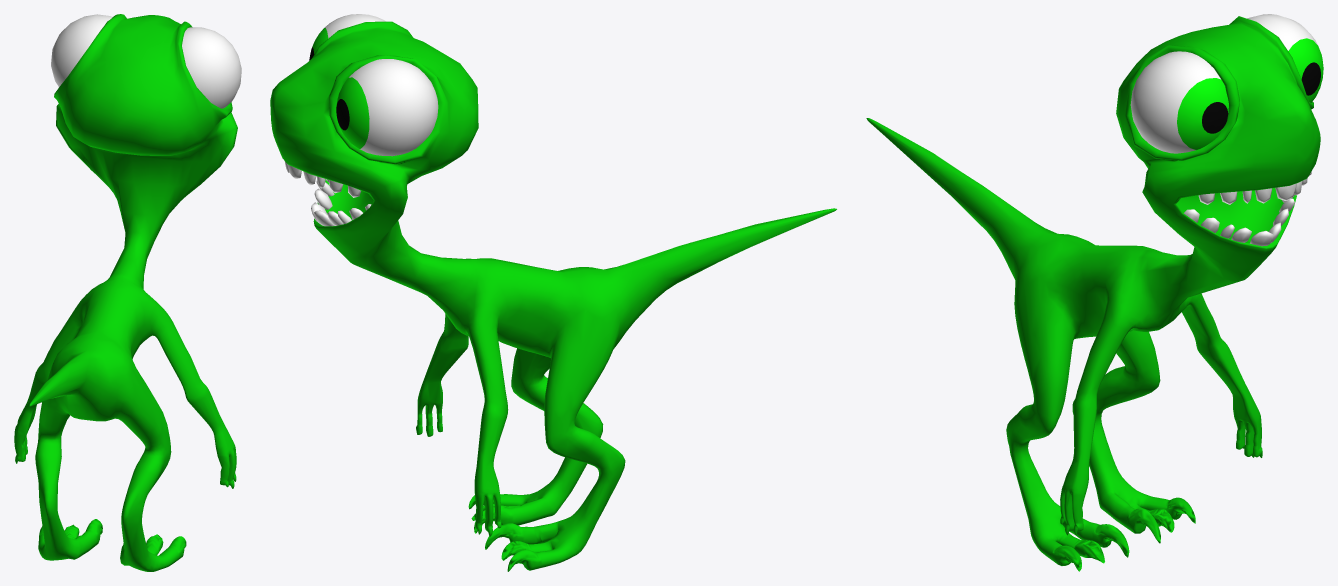
The model's file is dino.fbx.
3 views of the same model, side by side, from view 1: azimuth 30°, elevation 25°; view 2: azimuth 150°, elevation 25°; view 3: azimuth 270°, elevation 25° (orthographic). The views are drawn at different scales.
Parts seen in each view (by area): view 1: polySurface34; view 2: polySurface34; view 3: polySurface34.
Boxes of the visible parts, x1,y1,x2,y2 form: polySurface34: [14, 14, 241, 571]; polySurface34: [270, 14, 836, 571]; polySurface34: [866, 14, 1323, 571].
Bounding box in the file's own units: 6903 × 9114 × 6850.
